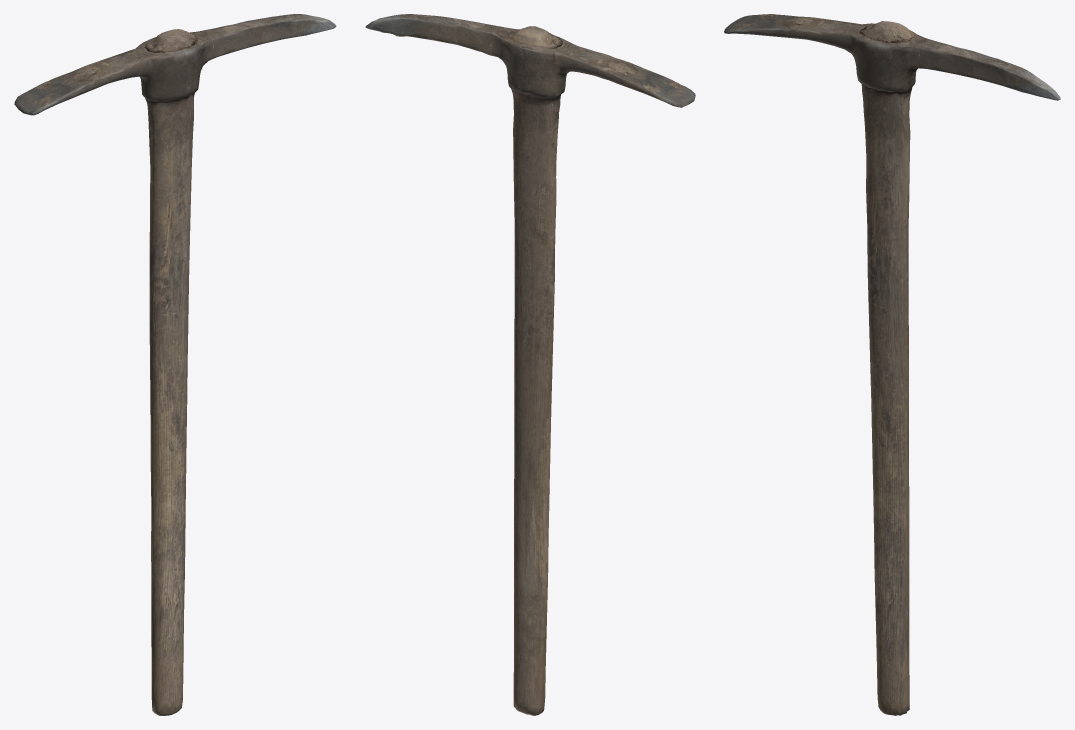
The model's file is picke-dirty-01.glb.
3 renders of one model, left to right at view 1: azimuth 30°, elevation 25°; view 2: azimuth 150°, elevation 25°; view 3: azimuth 330°, elevation 25°, orthographic.
Parts seen in each view (by area): view 1: picke_dirty_01; view 2: picke_dirty_01; view 3: picke_dirty_01.
Boxes of the visible parts, x1,y1,x2,y2 form: picke_dirty_01: (14,14,336,715); picke_dirty_01: (365,14,695,715); picke_dirty_01: (724,14,1060,715).
Size of the model in its own units: 0.5495 by 1.12 by 0.069.
Materials: 1 (1 with a texture image).
